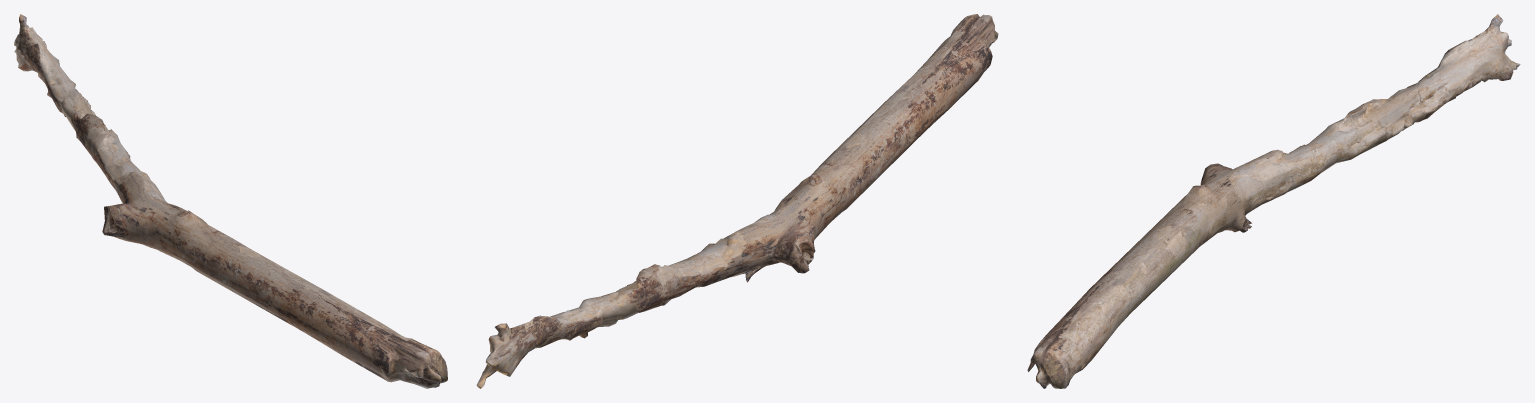
File: sm_Debris_04_01.fbx
The picture shows the model from 3 angles, left to right: view 1: azimuth 30°, elevation 25°; view 2: azimuth 150°, elevation 25°; view 3: azimuth 330°, elevation 25°; orthographic projection. The views are drawn at different scales.
Parts seen in each view (by area): view 1: sm_Debris_04_01_LOD0; view 2: sm_Debris_04_01_LOD0; view 3: sm_Debris_04_01_LOD0.
Boxes of the visible parts, x1,y1,x2,y2 form: sm_Debris_04_01_LOD0: (14, 14, 447, 388); sm_Debris_04_01_LOD0: (476, 14, 998, 388); sm_Debris_04_01_LOD0: (1027, 14, 1520, 388).
Bounding box in the file's own units: 22.07 × 141 × 13.08.
